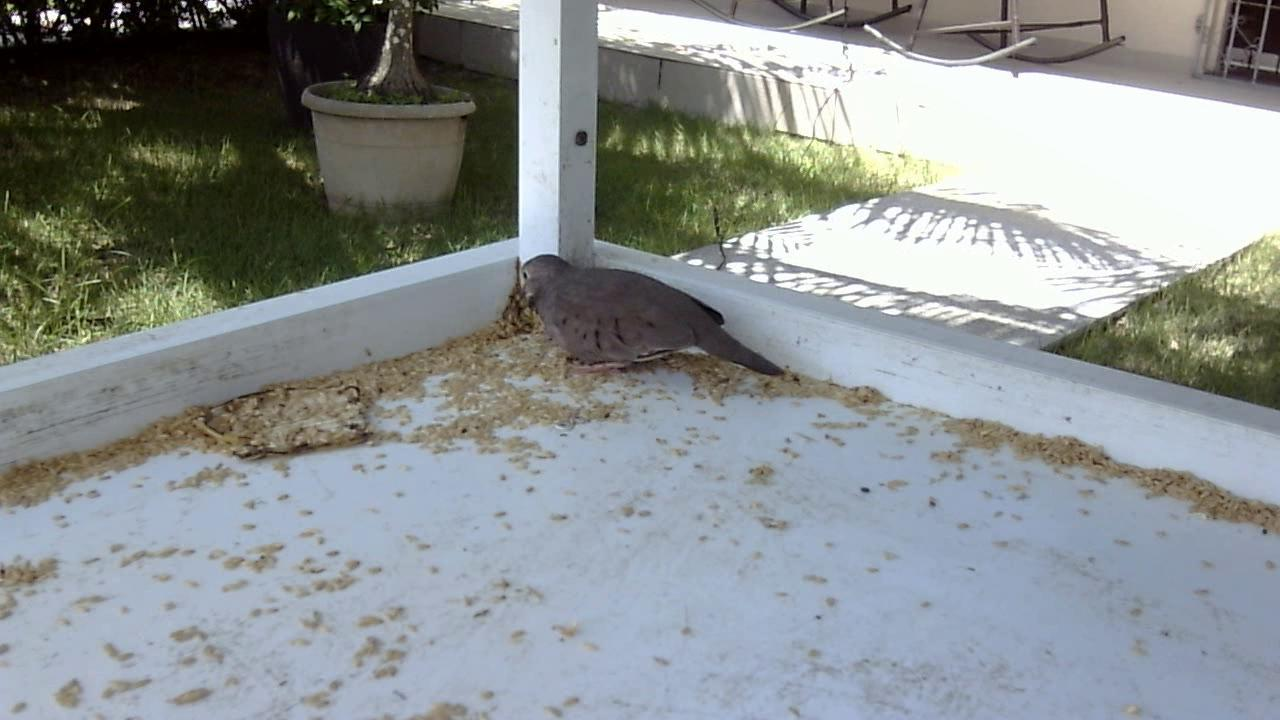rolinha: (504, 245, 796, 392)
